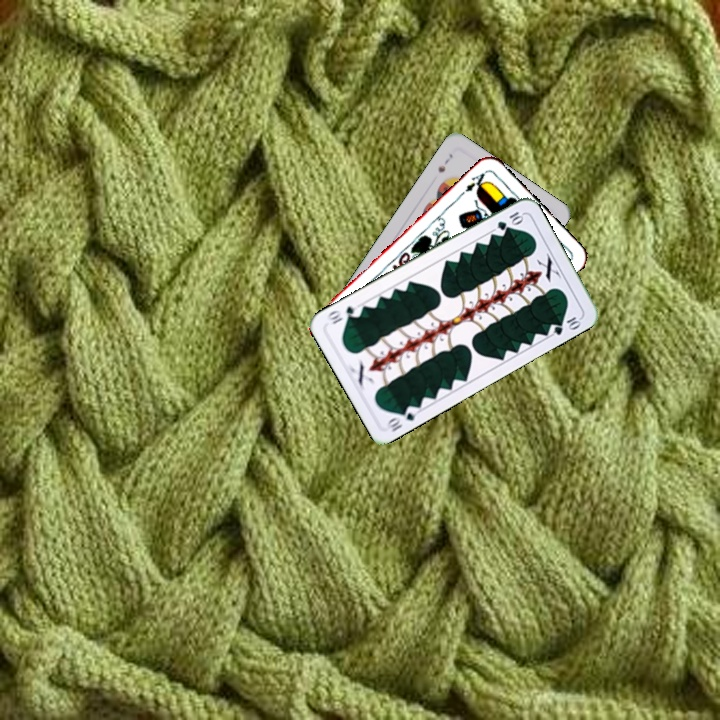EA: (456, 167, 489, 198)
G10: (384, 401, 421, 434), (493, 207, 526, 233)
S7: (434, 149, 455, 175)
